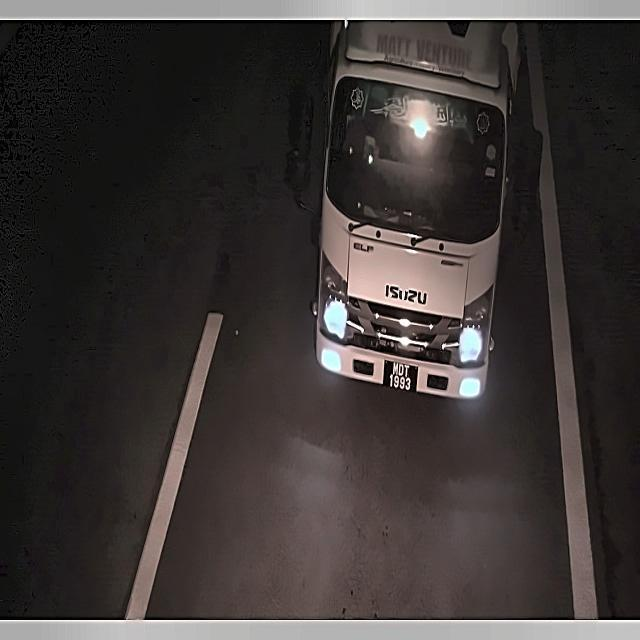car: (376, 356, 424, 394)
